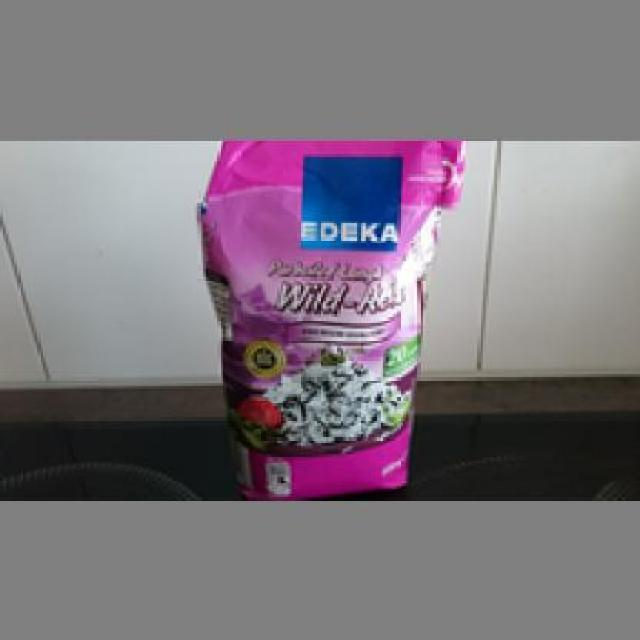Rice: (190, 137, 467, 497)
